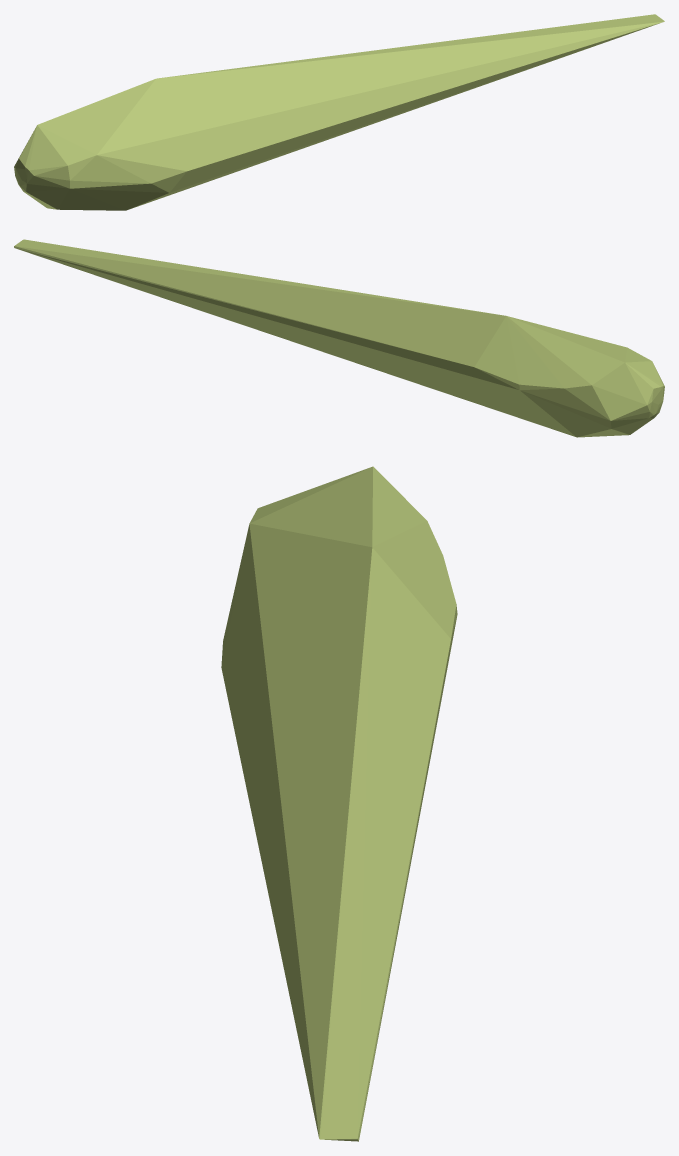
Rendered from handTool_screwdriver_torx_t30_a01.glb.
3 views of the same model, one above another, from view 1: azimuth 30°, elevation 25°; view 2: azimuth 150°, elevation 25°; view 3: azimuth 270°, elevation 25° (orthographic). The views are drawn at different scales.
Parts seen in each view (by area): view 1: geometry_0; view 2: geometry_0; view 3: geometry_0.
Part boxes in pixels (x1,y1,x2,y2): geometry_0: (14, 14, 664, 210); geometry_0: (14, 239, 664, 437); geometry_0: (221, 466, 457, 1141).
Size of the model in its own units: 0.4799 by 0.0728 by 0.0768.
